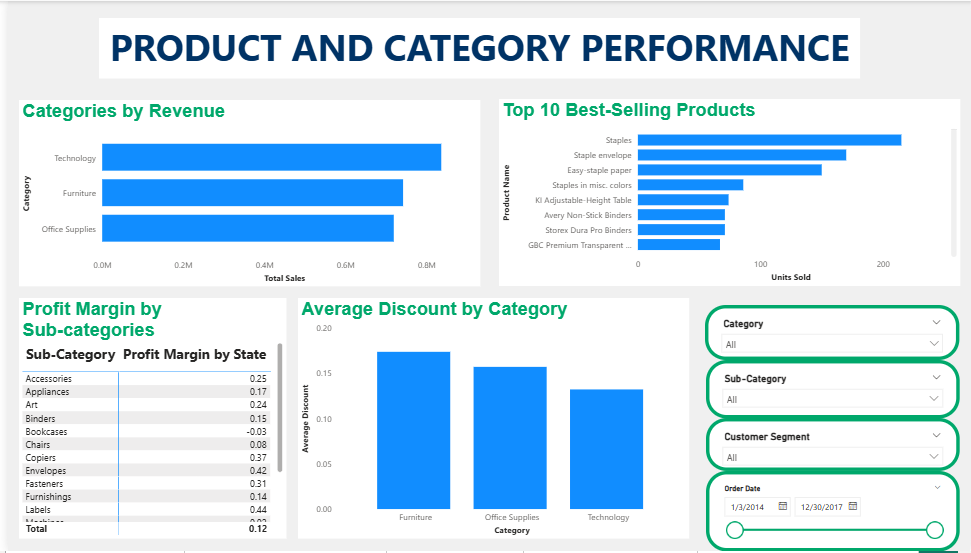

What the dashboard file says about the page in this screenshot:
{"tool":"powerbi","page":{"name":"Product & Category Performance","canvas":[1400,800],"ordinal":4},"visuals":[{"type":"textbox","box":[132.3,25.2,1107.1,88.2],"z":0},{"type":"clusteredBarChart","title":"Product Category by Revenue","fields":{"Category":["Products.Category"],"Y":["Orders.Total Sales"]},"box":[15.7,143.3,670.9,270.9],"z":1000},{"type":"clusteredBarChart","title":"Top 10 Best-Selling Products","fields":{"Category":["Products.Product Name"],"Y":["Orders.Units Sold"]},"box":[713.7,142.7,670.7,271.8],"z":2000},{"type":"pivotTable","title":"Profit Margin by Product Sub-category","fields":{"Rows":["Products.Sub-Category"],"Values":["States.Profit Margin by State"]},"box":[15.6,432.1,389.1,350],"z":3000},{"type":"clusteredColumnChart","title":"Average Discount by Product Category","fields":{"Category":["Products.Category"],"Y":["Orders.Average Discount"]},"box":[422.3,432.1,569,350],"z":4000},{"type":"slicer","fields":{"Values":["Products.Category"]},"box":[1014.2,442.5,370.1,80.3],"z":5000},{"type":"slicer","fields":{"Values":["Products.Sub-Category"]},"box":[1015.7,522.8,368.5,85],"z":6000},{"type":"slicer","fields":{"Values":["Customers.Customer Segment"]},"box":[1015.7,606.3,368.5,77.2],"z":7000},{"type":"slicer","fields":{"Values":["Orders.Order Date"]},"box":[1015.7,683.5,368.5,116.5],"z":8000}]}

Visuals, with their boxes in screenshot pixels (x1, y1, x2, y2), scaled from the page's 1400x800 canvas onto the 971x553 screenshot:
textbox: (92,17,860,78)
"Product Category by Revenue" clusteredBarChart: (11,99,476,286)
"Top 10 Best-Selling Products" clusteredBarChart: (495,99,960,287)
"Profit Margin by Product Sub-category" pivotTable: (11,299,281,541)
"Average Discount by Product Category" clusteredColumnChart: (293,299,688,541)
slicer - Products.Category: (703,306,960,361)
slicer - Products.Sub-Category: (704,361,960,420)
slicer - Customers.Customer Segment: (704,419,960,472)
slicer - Orders.Order Date: (704,472,960,552)
